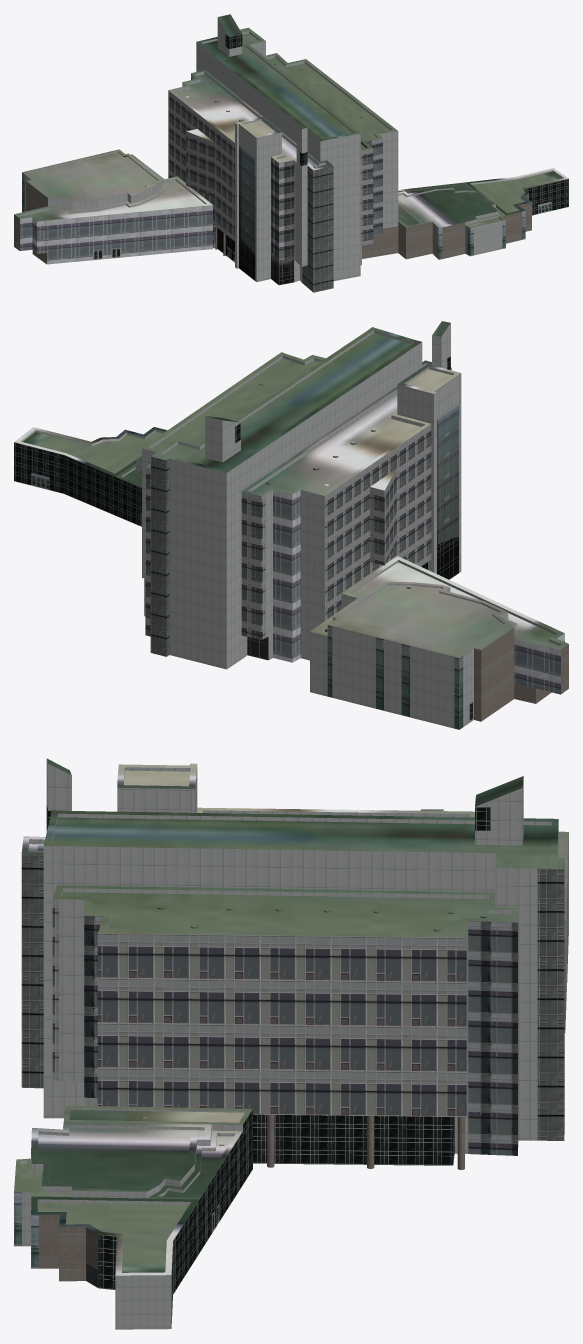
The model's file is ICT.gltf.
The picture shows the model from 3 angles, top to bottom: view 1: azimuth 30°, elevation 25°; view 2: azimuth 150°, elevation 25°; view 3: azimuth 270°, elevation 25°; orthographic projection. The views are drawn at different scales.
Visible parts, largest first — view 1: root; view 2: root; view 3: root.
Part boxes in pixels (box(x1,y1,x2,y2)): root: box(14, 14, 568, 292); root: box(14, 321, 568, 729); root: box(14, 758, 568, 1329).
Size of the model in its own units: 128 by 44.73 by 68.97.
22 materials, 20 textured.
